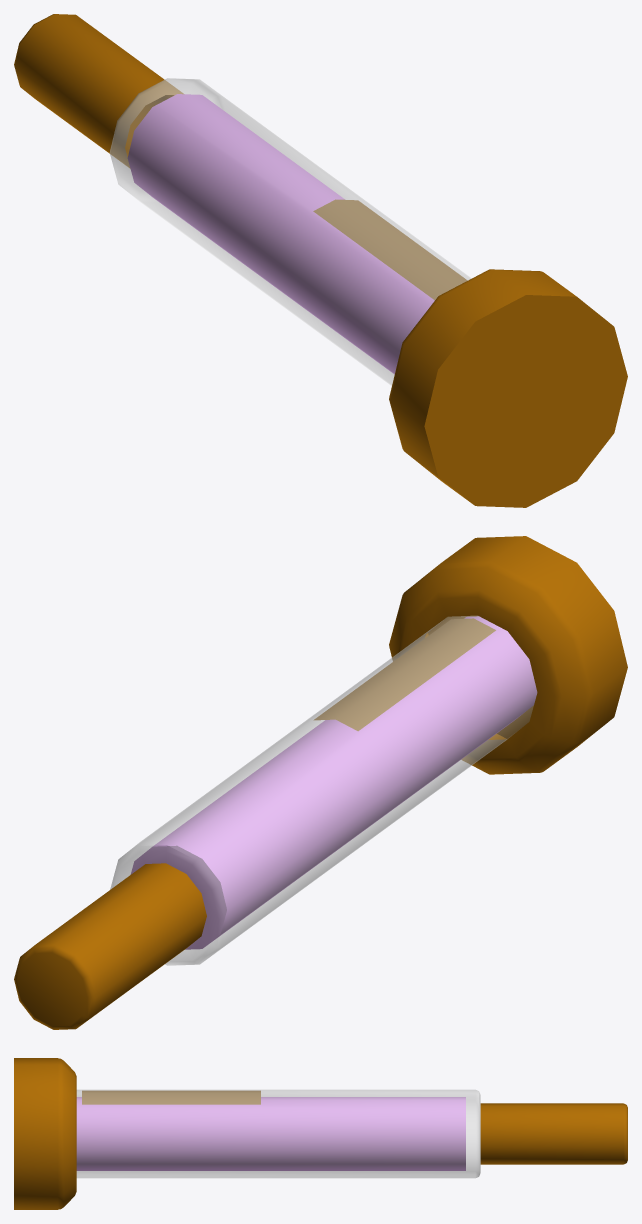
Rendered from Bottled Pical Anlon.fbx.
3 renders of one model, top to bottom at view 1: azimuth 30°, elevation 25°; view 2: azimuth 150°, elevation 25°; view 3: azimuth 270°, elevation 25°, orthographic. The views are drawn at different scales.
Parts seen in each view (by area): view 1: Bottled Pical Anlon; view 2: Bottled Pical Anlon; view 3: Bottled Pical Anlon.
Part boxes in pixels (x1,y1,x2,y2): Bottled Pical Anlon: (14,14,627,507); Bottled Pical Anlon: (14,536,627,1029); Bottled Pical Anlon: (14,1058,627,1209).
Bounding box in the file's own units: 14.31 × 14.31 × 57.69.
